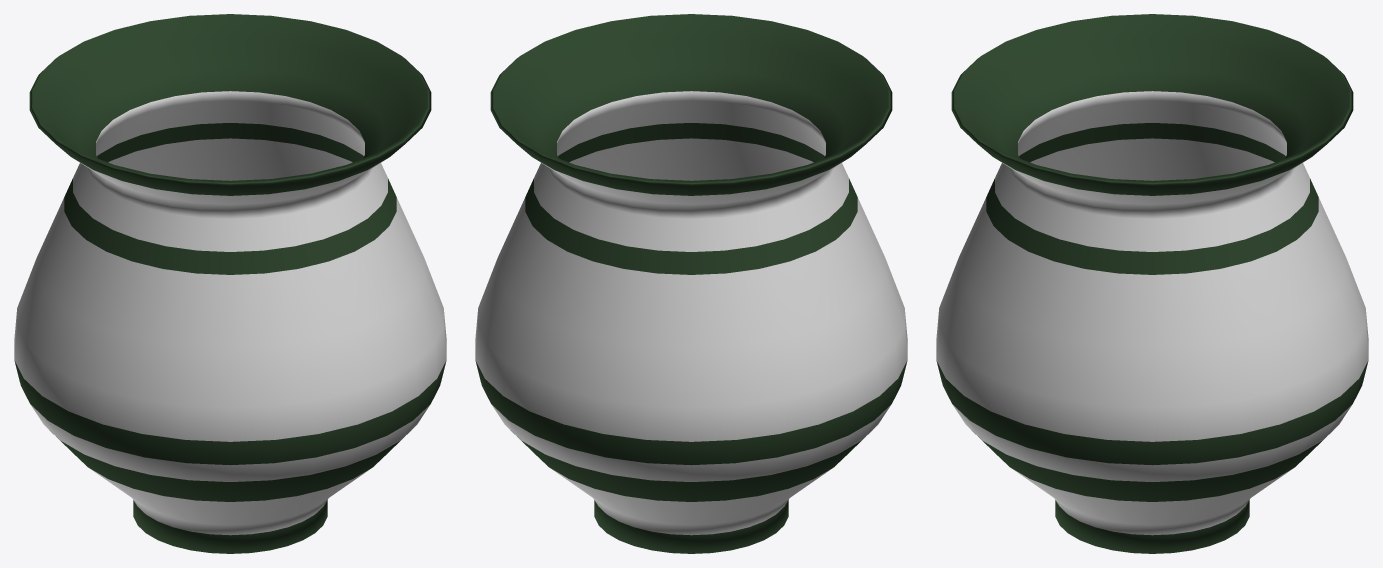
File: AP_vase01_TL.fbx
3 renders of one model, left to right at view 1: azimuth 30°, elevation 25°; view 2: azimuth 150°, elevation 25°; view 3: azimuth 270°, elevation 25°, orthographic.
Parts seen in each view (by area): view 1: pCylinder2; view 2: pCylinder2; view 3: pCylinder2.
Boxes of the visible parts, box(x1,y1,x2,y2) form: pCylinder2: box(14, 14, 446, 553); pCylinder2: box(475, 14, 907, 553); pCylinder2: box(936, 14, 1368, 553).
Size of the model in its own units: 4.77 by 5.02 by 4.74.
